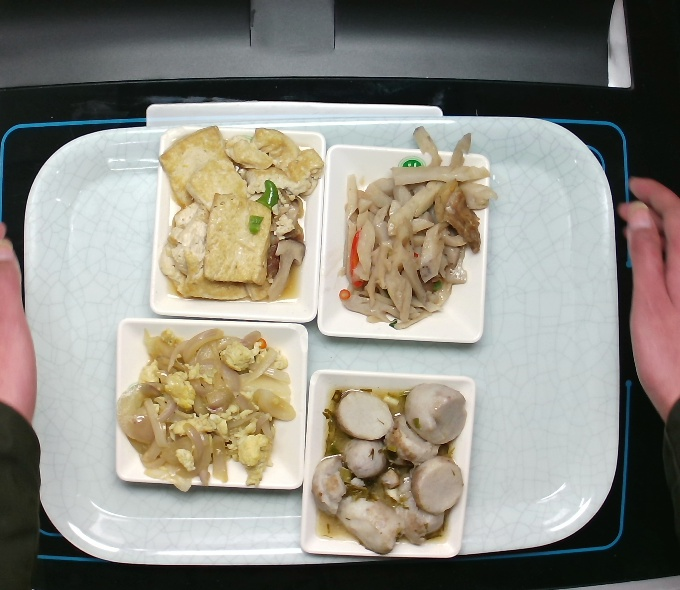wcq-JiaChangDouFu: (155, 122, 328, 307)
wcq-QingChaoOuPian: (338, 122, 504, 332)
wcq-YangCongChaoDan: (110, 326, 299, 495)
wcq-YangYu: (309, 379, 472, 556)
